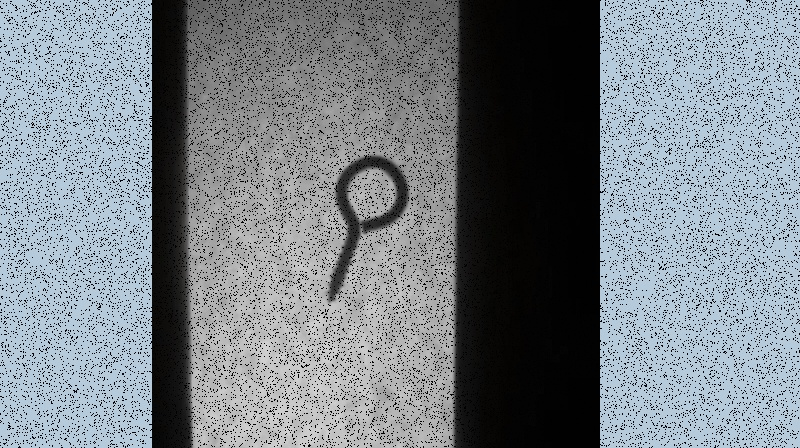O001: (320, 149, 412, 306)
